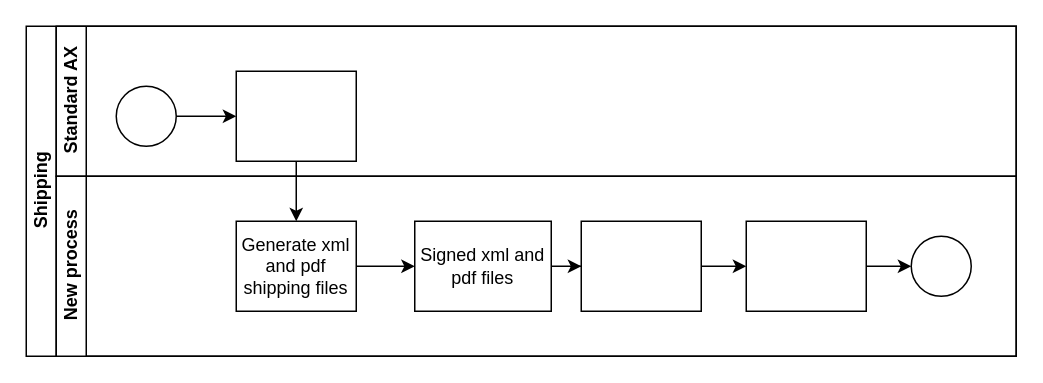
This 1043x383 diagram has some shape labels left out. Each missing label, with the box of its shape:
Add references to document in AX: (580, 220, 701, 311)
Pick and pack process: (235, 70, 356, 161)
Send files: (745, 220, 866, 311)
